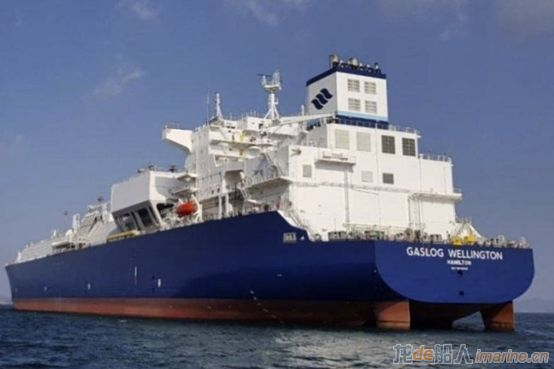Cargoship: (4, 52, 531, 325)
